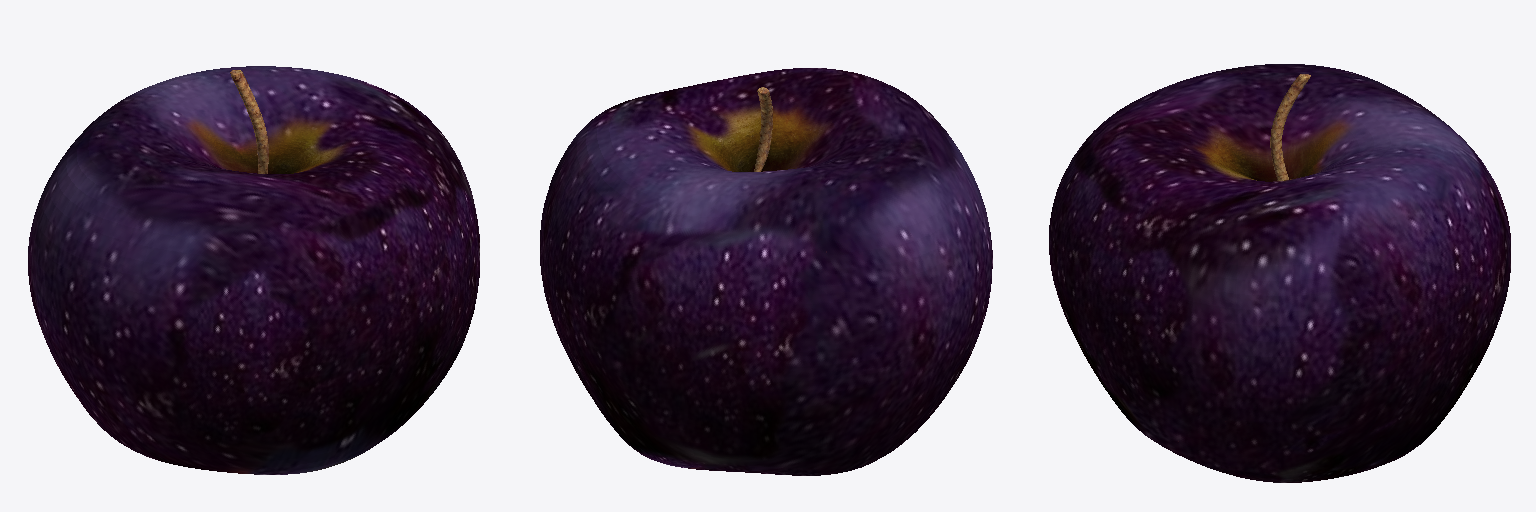
The picture shows the model from 3 angles: view 1: azimuth 30°, elevation 25°; view 2: azimuth 150°, elevation 25°; view 3: azimuth 270°, elevation 25°; orthographic projection.
Parts seen in each view (by area): view 1: Apple_Sphere.001; view 2: Apple_Sphere.001; view 3: Apple_Sphere.001.
Boxes of the visible parts, x1,y1,x2,y2 form: Apple_Sphere.001: [28, 66, 479, 474]; Apple_Sphere.001: [540, 68, 992, 475]; Apple_Sphere.001: [1049, 64, 1510, 482].
Bounding box in the file's own units: 0.88 × 0.7431 × 0.8784.
Materials: 1 (1 with a texture image).